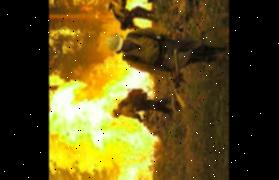fire: (49, 68, 159, 180)
